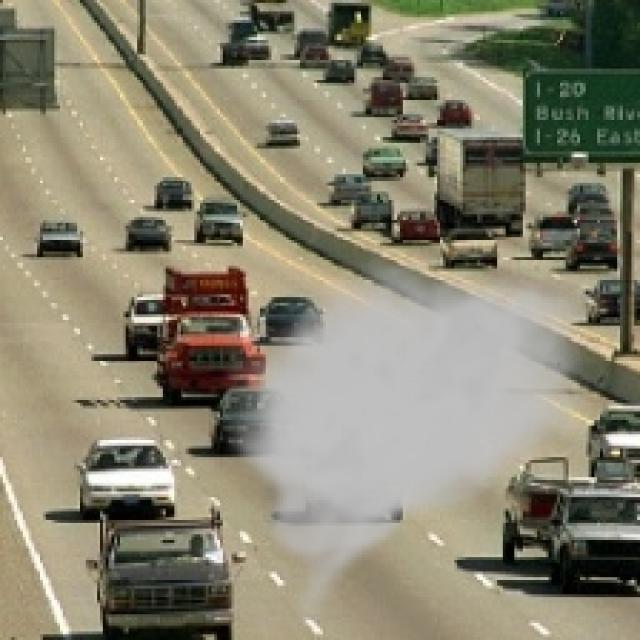Smoke: (217, 255, 609, 634)
